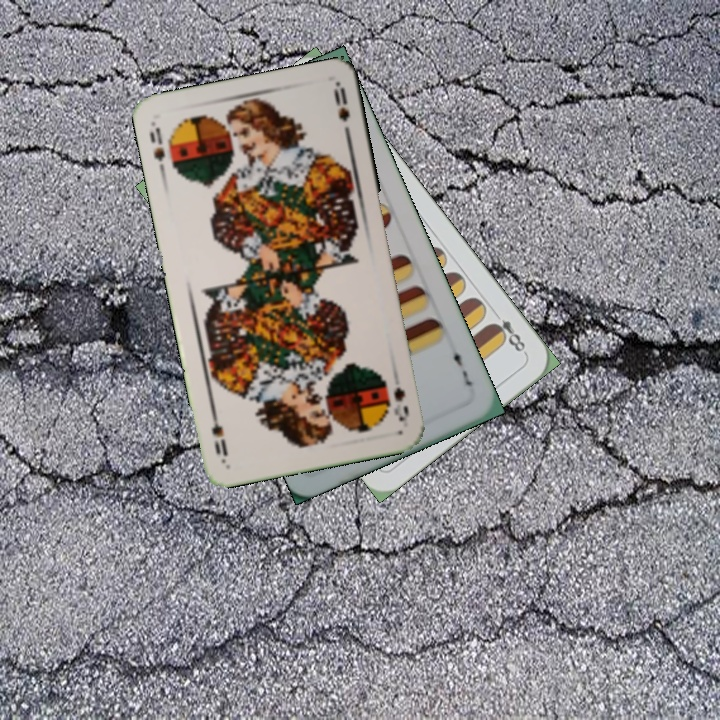E7: (449, 341, 475, 389)
E8: (486, 306, 530, 357)
SO: (145, 119, 168, 178), (389, 383, 412, 424)
